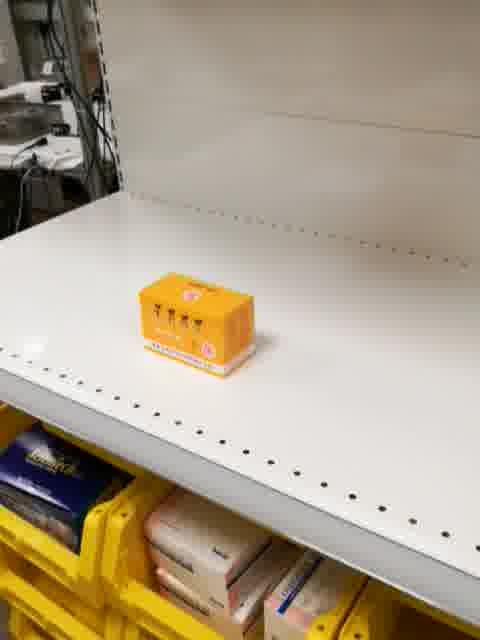jasminetea: (138, 273, 258, 378)
